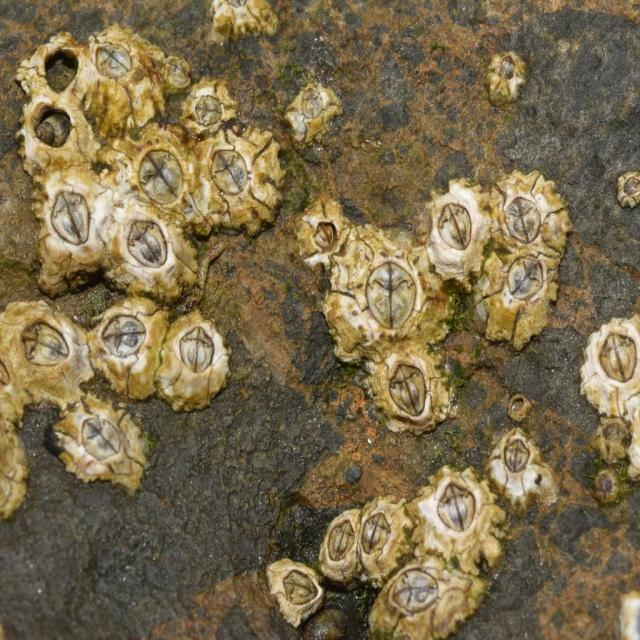barnacles: (332, 240, 450, 353), (412, 468, 508, 570), (60, 401, 156, 502), (80, 21, 174, 122), (0, 301, 88, 407), (188, 141, 284, 233), (31, 172, 110, 281), (108, 209, 195, 302), (89, 303, 164, 409), (376, 570, 492, 638), (374, 352, 462, 438), (158, 312, 233, 412), (483, 256, 564, 348), (426, 174, 489, 288), (479, 424, 559, 511), (120, 141, 204, 222), (582, 314, 640, 426), (494, 177, 571, 258), (259, 550, 330, 629), (19, 27, 90, 105), (311, 487, 368, 584), (358, 480, 407, 576), (288, 202, 351, 270), (292, 79, 348, 148), (485, 45, 536, 114), (182, 82, 243, 132), (613, 158, 640, 214)
